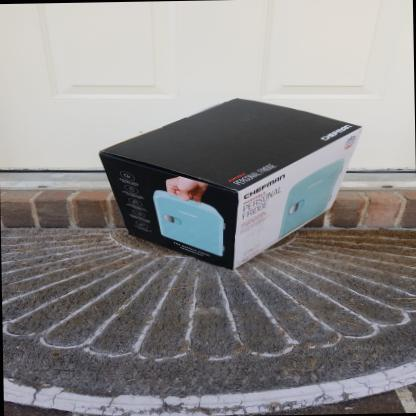box: (96, 96, 366, 271)
